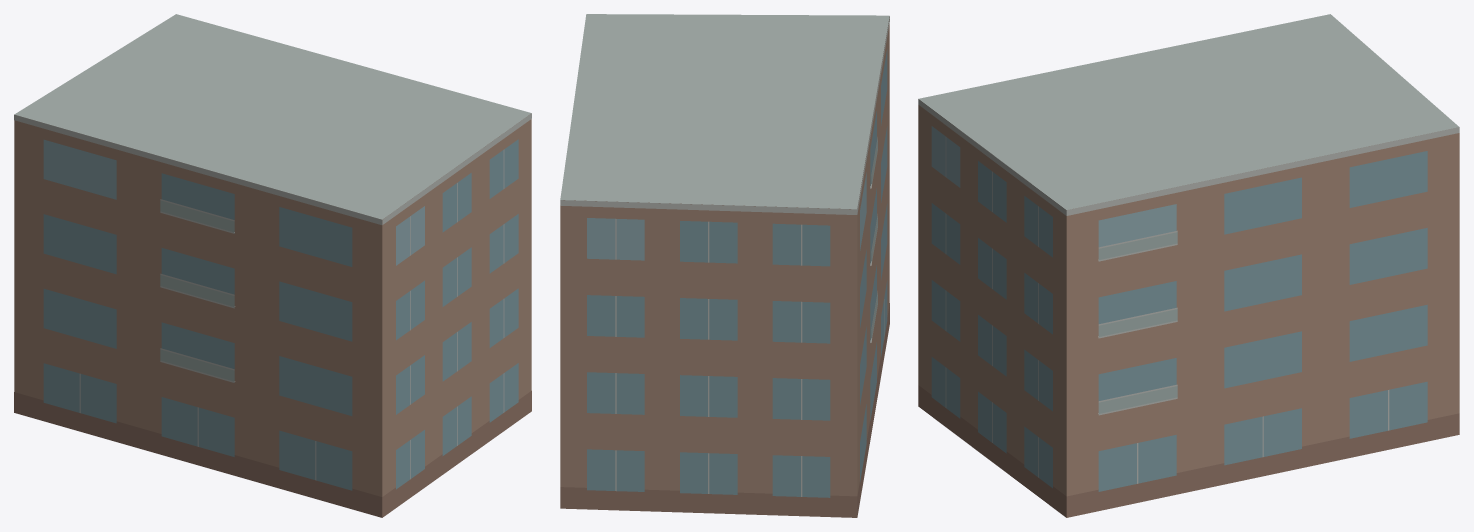
File: survey-upis-32678612.glb
3 views of the same model, side by side, from view 1: azimuth 30°, elevation 25°; view 2: azimuth 150°, elevation 25°; view 3: azimuth 270°, elevation 25° (orthographic). The views are drawn at different scales.
Visible parts, largest first — view 1: survey-upis-32678612.tmp; view 2: survey-upis-32678612.tmp; view 3: survey-upis-32678612.tmp.
Boxes of the visible parts, x1,y1,x2,y2 form: survey-upis-32678612.tmp: (14,14,531,517); survey-upis-32678612.tmp: (560,14,889,517); survey-upis-32678612.tmp: (918,14,1459,517).
Bounding box in the file's own units: 17.65 × 12.9 × 20.57.
